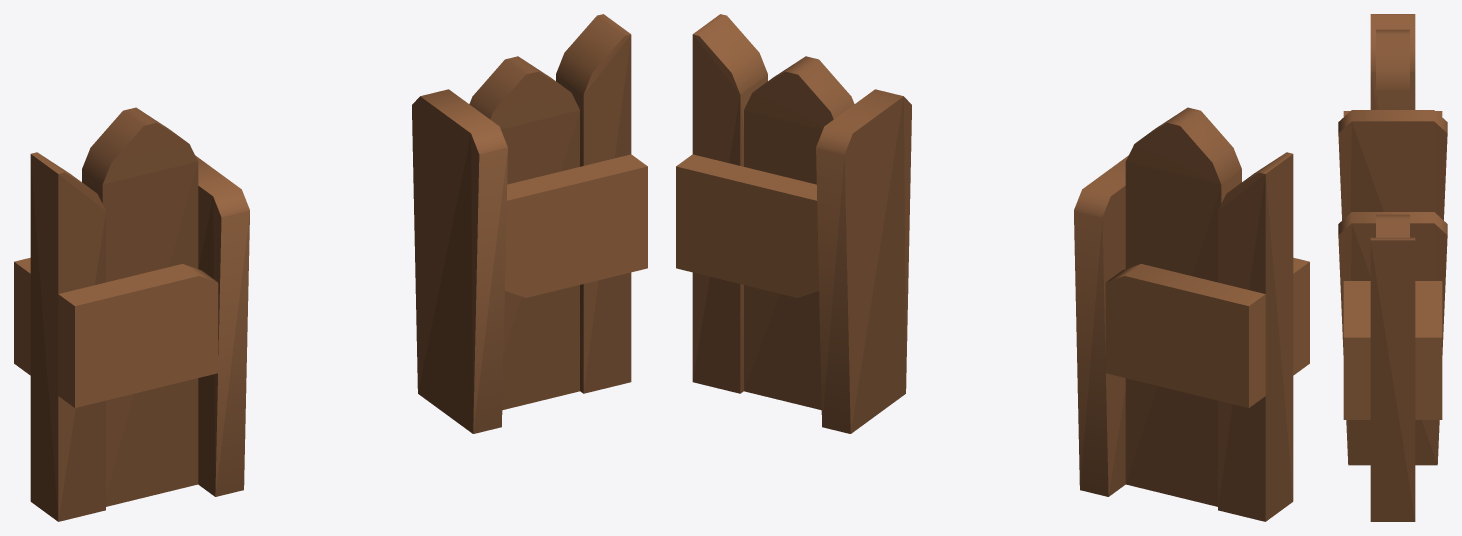
File: kenney_graveyard_fence_gate.glb
3 renders of one model, left to right at view 1: azimuth 30°, elevation 25°; view 2: azimuth 150°, elevation 25°; view 3: azimuth 270°, elevation 25°, orthographic. The views are drawn at different scales.
Visible parts, largest first — view 1: wood; view 2: wood; view 3: wood.
Part boxes in pixels (left/top/right/bottom): wood: left=14, top=14, right=647, bottom=521; wood: left=676, top=14, right=1309, bottom=521; wood: left=1338, top=14, right=1447, bottom=521.
Bounding box in the file's own units: 1 × 0.6201 × 0.204.
